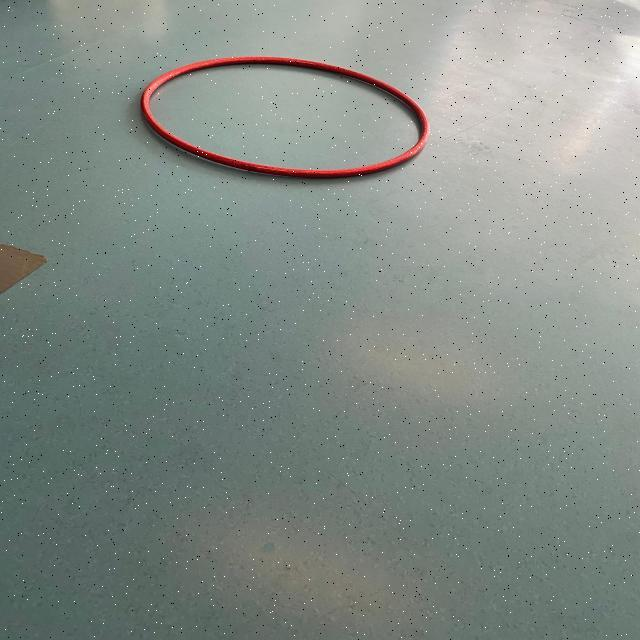Circle: (128, 52, 439, 184)
